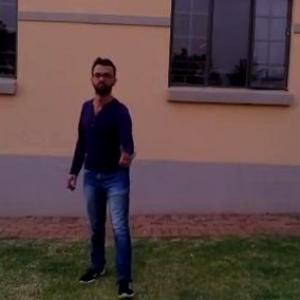takeoff-hand: (114, 140, 140, 174)
